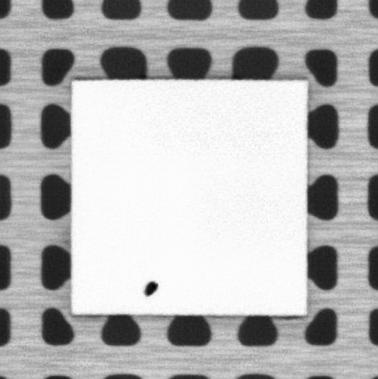DIE_INK: (141, 279, 160, 298)
